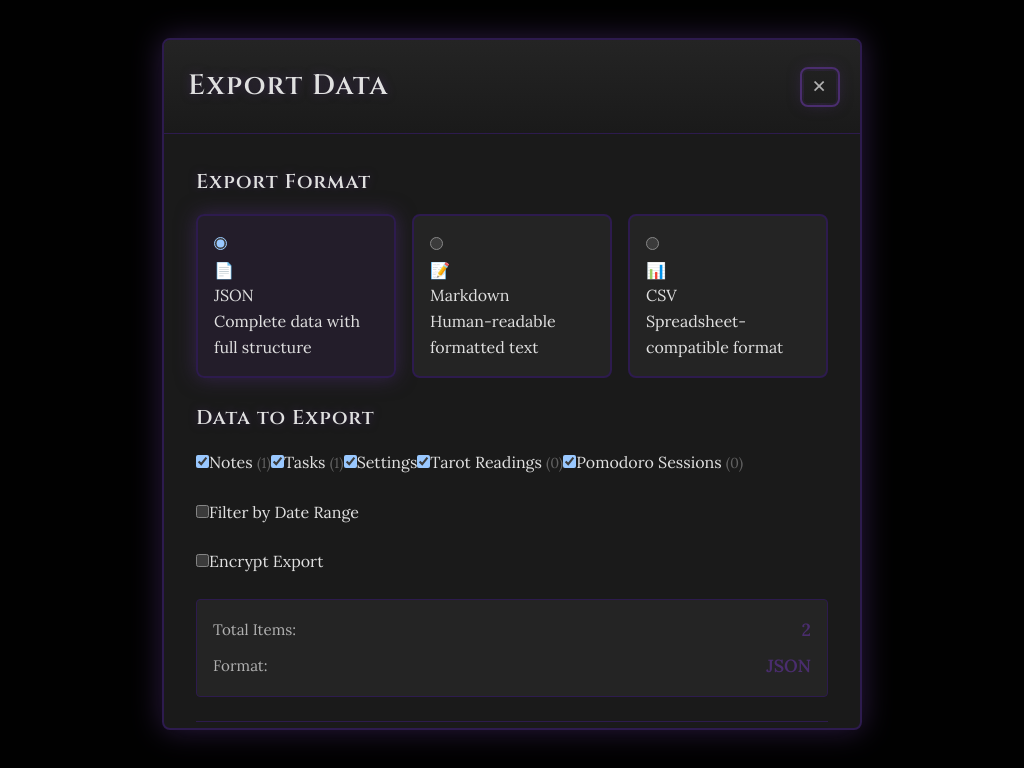
Test: ExportDialog › should show date range inputs when enabled
The width and height of the screenshot is (1024, 768).
Click the checkbox labelled "Filter by Date Range" at coordinates (202, 511), box [196,505,209,518]
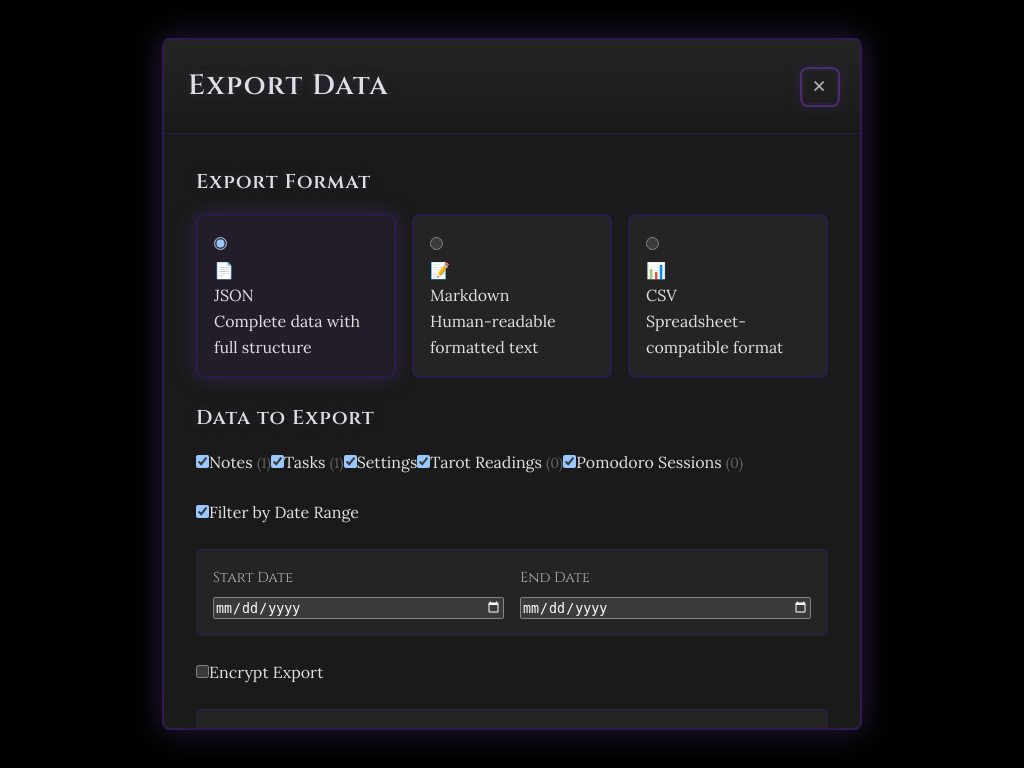
Result: the text "Start Date" is shown at [213,568,293,587]
Result: the text "End Date" is shown at [520,568,590,587]
